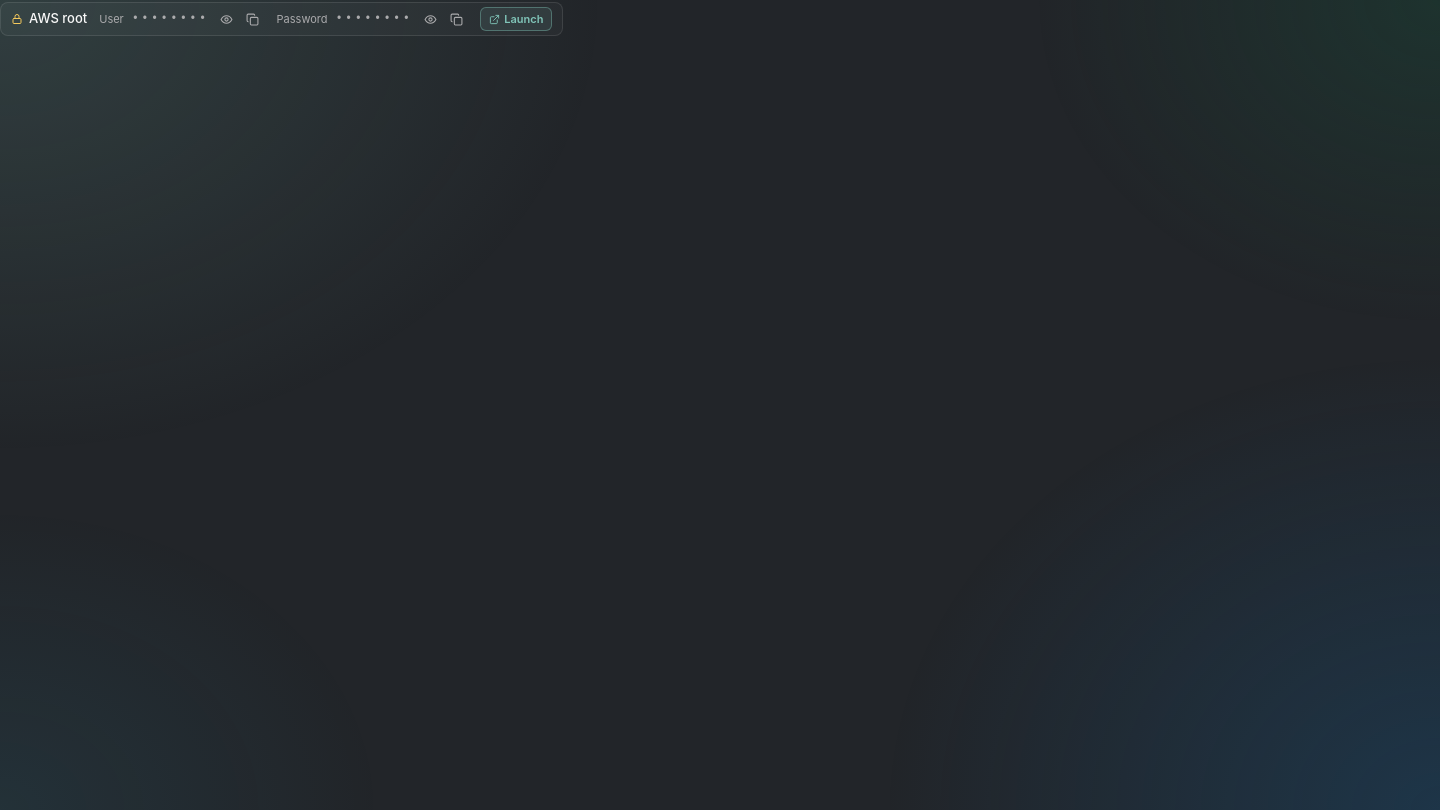
the 🔒 card in the chat › is one thin row: title, hidden username and password with Reveal and Copy, and Launch
Later steps or results of the test are not shown.
Check: the element showing "AWS root User •••••••• Password •••••••• Launch" is shown, box [0,2,564,36]
Check: the field labelled "Hidden username" does not show "root@"
// The username is on the card already: Reveal and Copy need no PIN.
Click the button named "Reveal the AWS root username": (227, 19) [215,7,239,31]
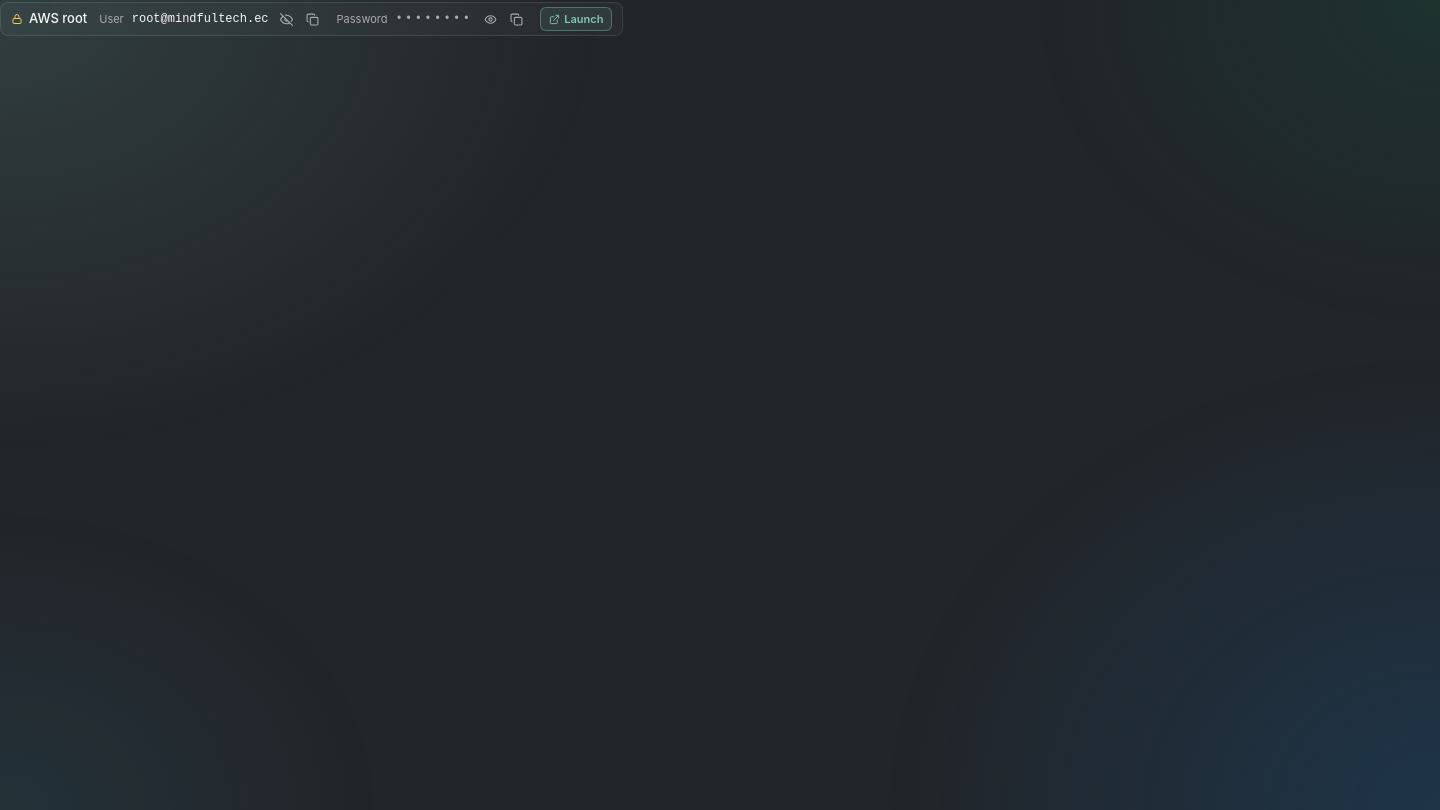
Check: the text named "AWS root username" reads "root@mindfultech.ec", box [132,12,269,26]
Click the button named "Hide the username": (287, 19) [275,7,299,31]
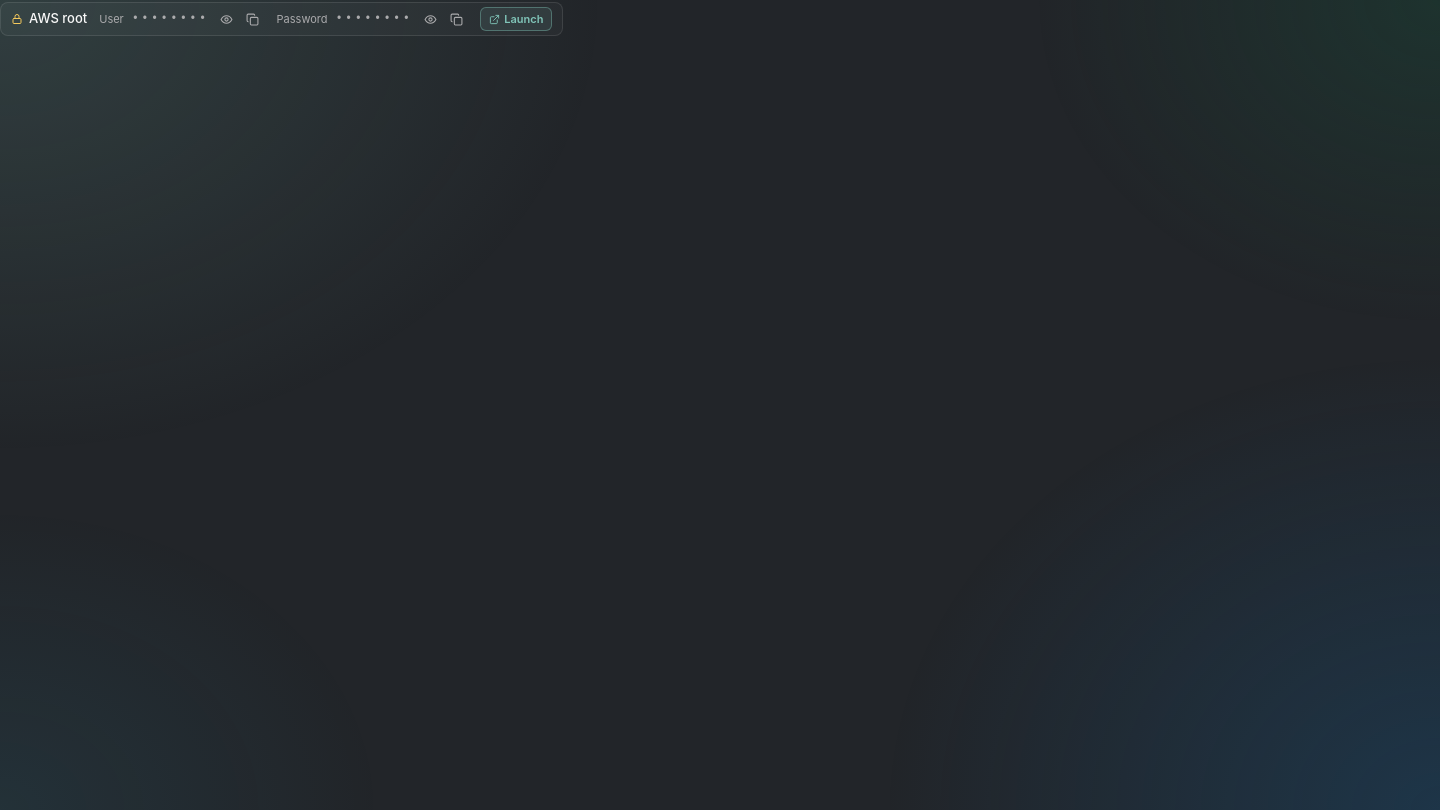
Check: the text named "Hidden username" is shown, box [128,11,213,27]
